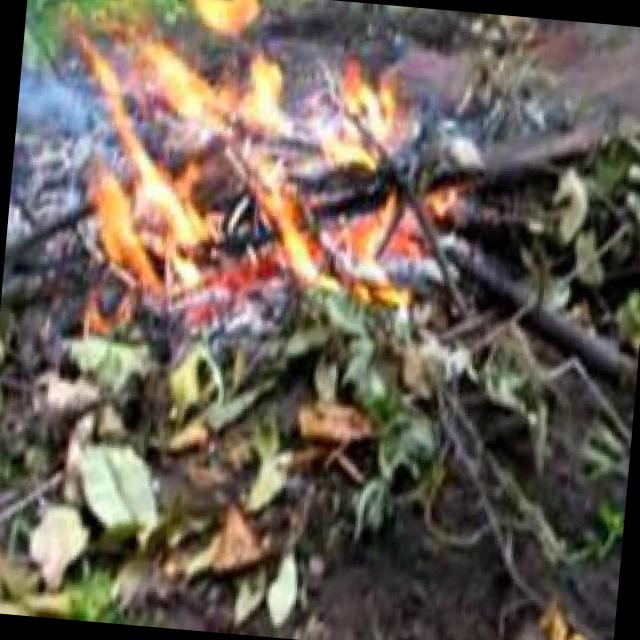Fire: (46, 38, 295, 293), (284, 186, 416, 306), (310, 57, 390, 202)
